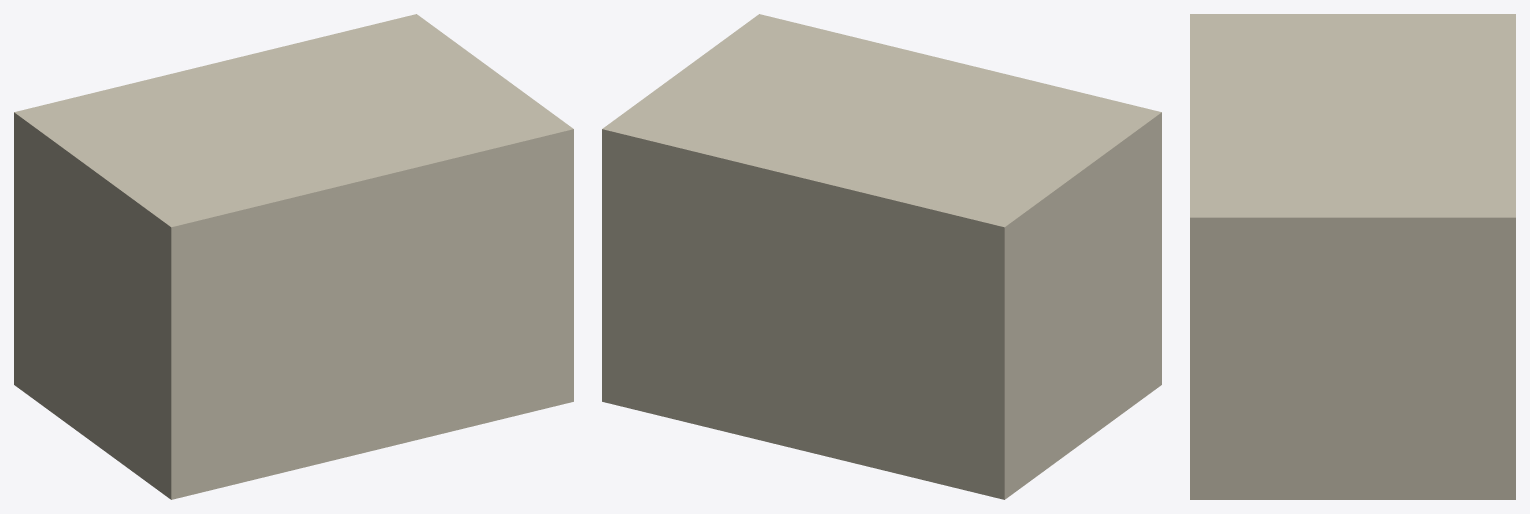
Rendered from bread.glb.
3 views of the same model, side by side, from view 1: azimuth 30°, elevation 25°; view 2: azimuth 150°, elevation 25°; view 3: azimuth 270°, elevation 25° (orthographic). The views are drawn at different scales.
Visible parts, largest first — view 1: 00_bread_loaf; view 2: 00_bread_loaf; view 3: 00_bread_loaf.
Boxes of the visible parts, left/top/right/bottom form: 00_bread_loaf: left=14, top=14, right=573, bottom=499; 00_bread_loaf: left=602, top=14, right=1161, bottom=499; 00_bread_loaf: left=1190, top=14, right=1515, bottom=499.
Bounding box in the file's own units: 0.34 × 0.229 × 0.23.
